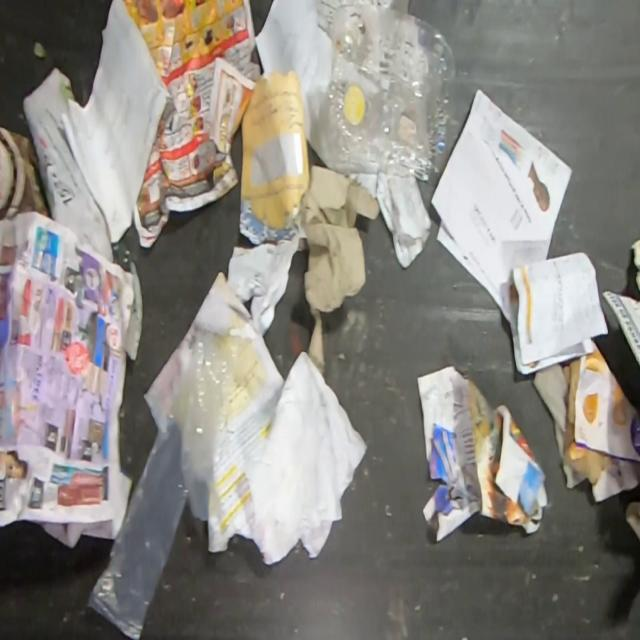cardboard: (0, 127, 52, 222)
rigid_plastic: (322, 0, 458, 182)
soft_plastic: (86, 332, 240, 639)
